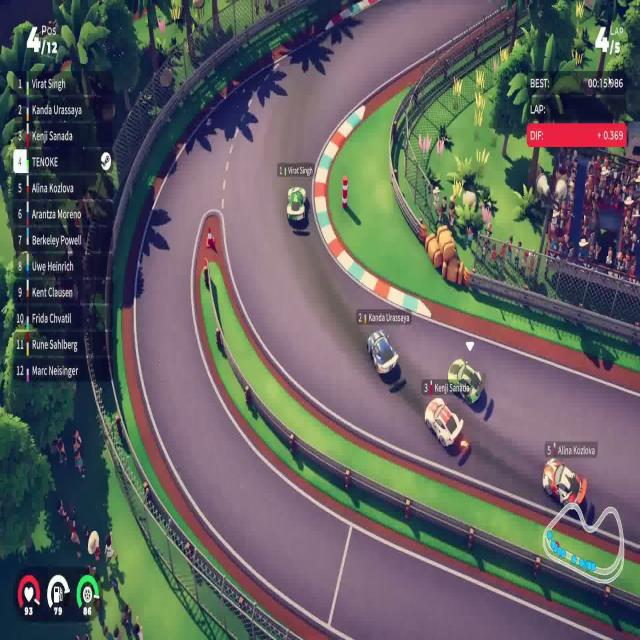car: (541, 456, 587, 512), (423, 396, 464, 448), (446, 357, 485, 405), (366, 328, 399, 378), (285, 185, 308, 230)
